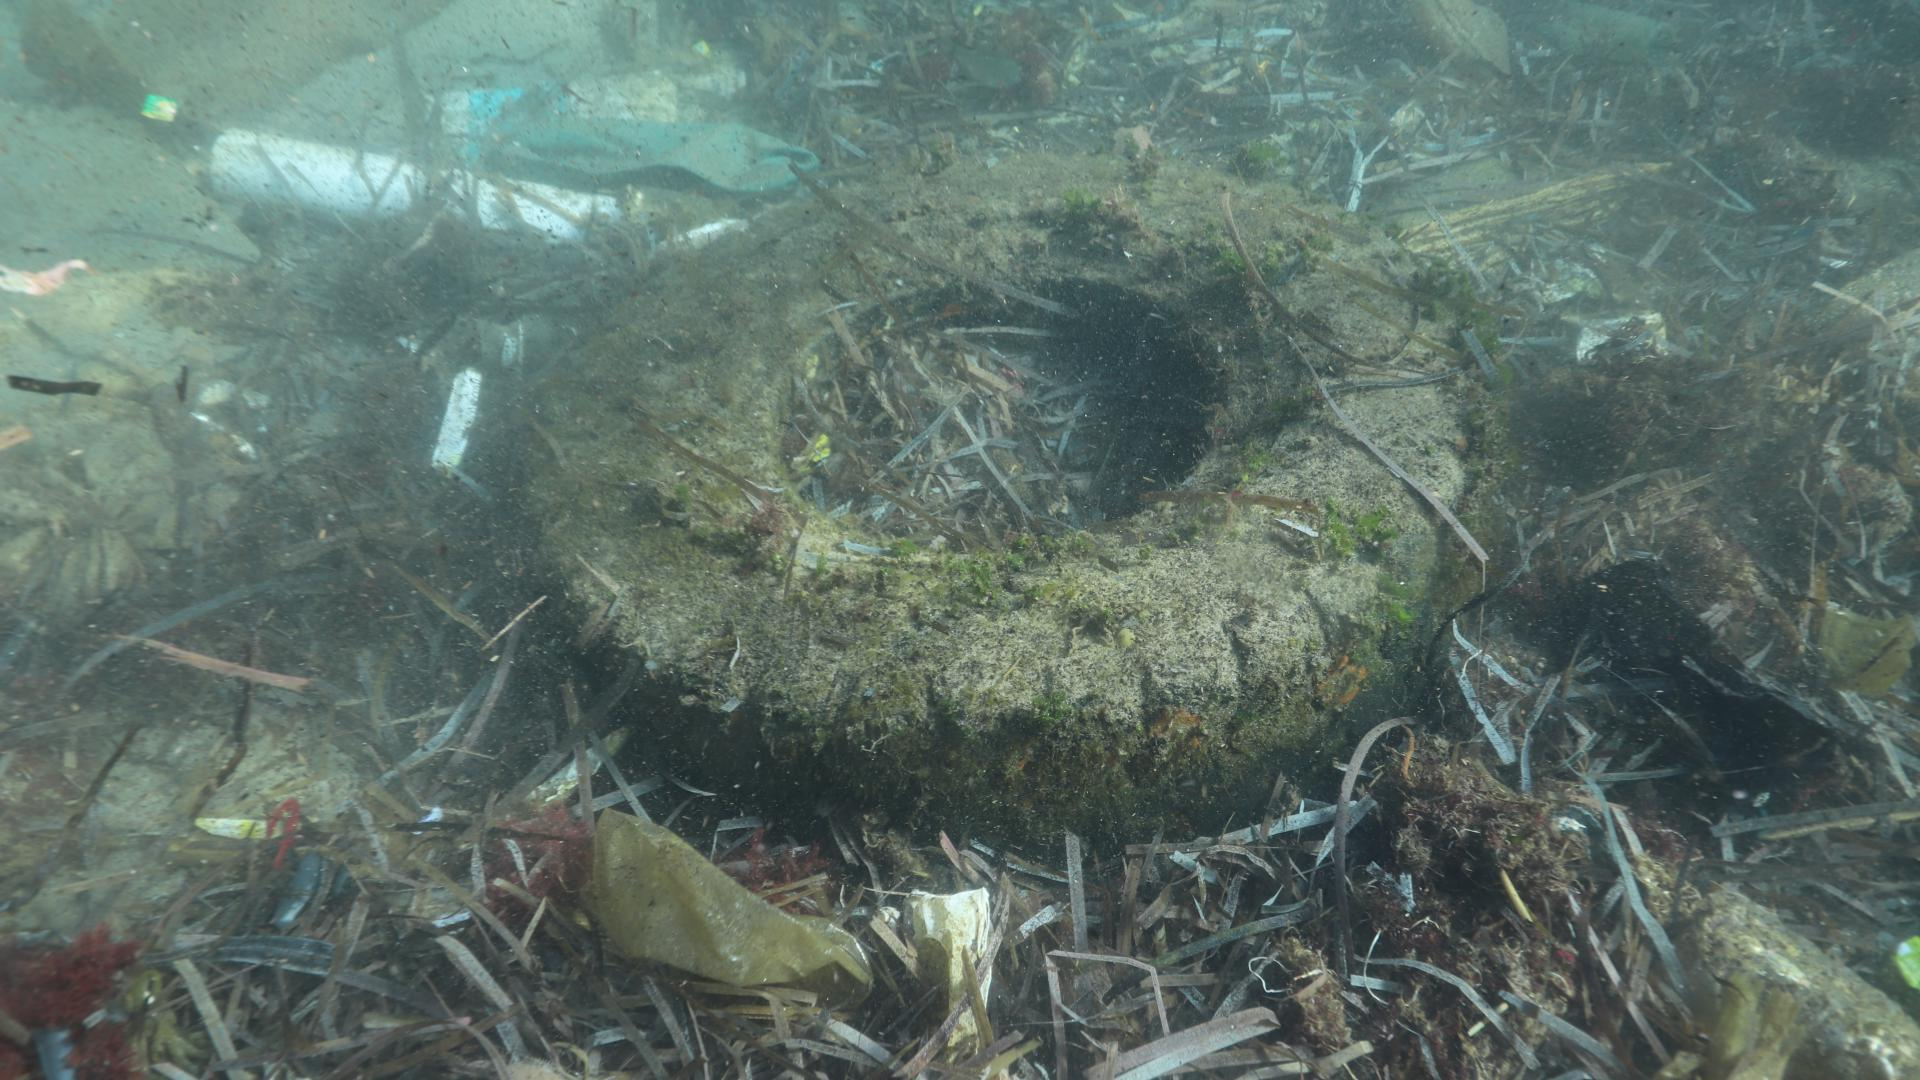tire: (517, 153, 1466, 864)
